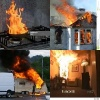fire: (14, 57, 44, 94), (6, 0, 28, 34), (52, 50, 77, 78), (55, 0, 78, 28), (75, 29, 91, 44), (81, 12, 93, 24)
